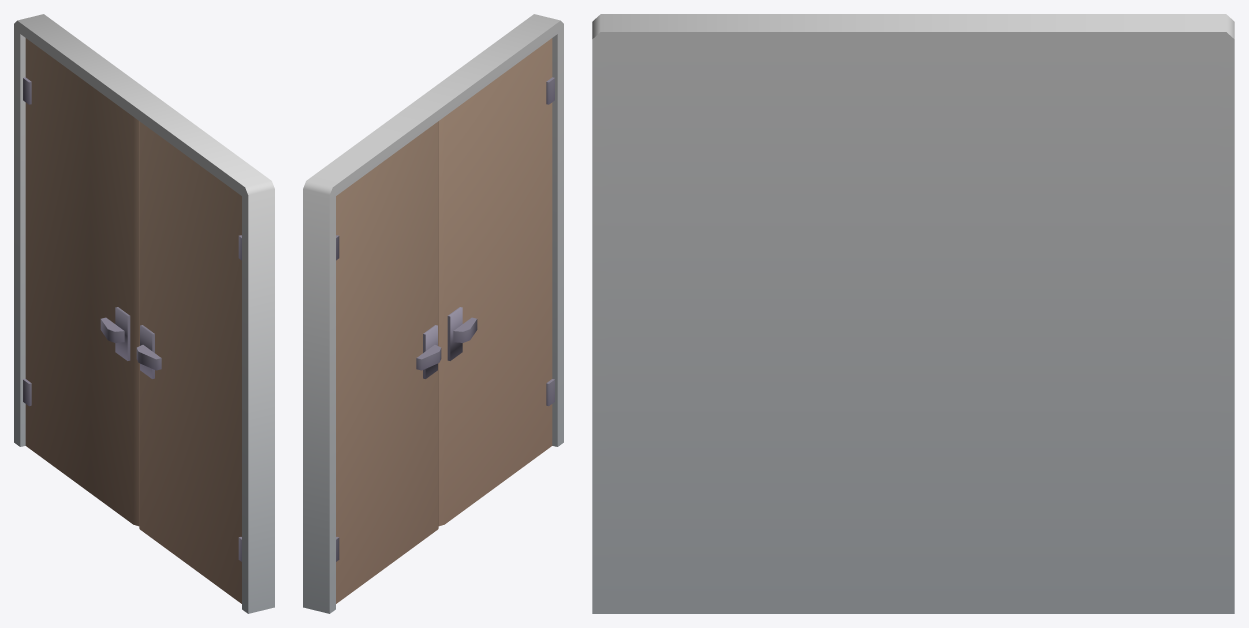
File: door-double-basic (%wall).glb
The picture shows the model from 3 angles, left to right: view 1: azimuth 30°, elevation 25°; view 2: azimuth 150°, elevation 25°; view 3: azimuth 270°, elevation 25°; orthographic projection. The views are drawn at different scales.
Parts seen in each view (by area): view 1: door-double-basic (%wall); view 2: door-double-basic (%wall); view 3: door-double-basic (%wall).
Boxes of the visible parts, x1=… form: door-double-basic (%wall): x1=14, y1=14, x2=274, y2=613; door-double-basic (%wall): x1=303, y1=14, x2=563, y2=613; door-double-basic (%wall): x1=592, y1=14, x2=1234, y2=613.
Bounding box in the file's own units: 0.1625 × 1.9 × 1.9.
